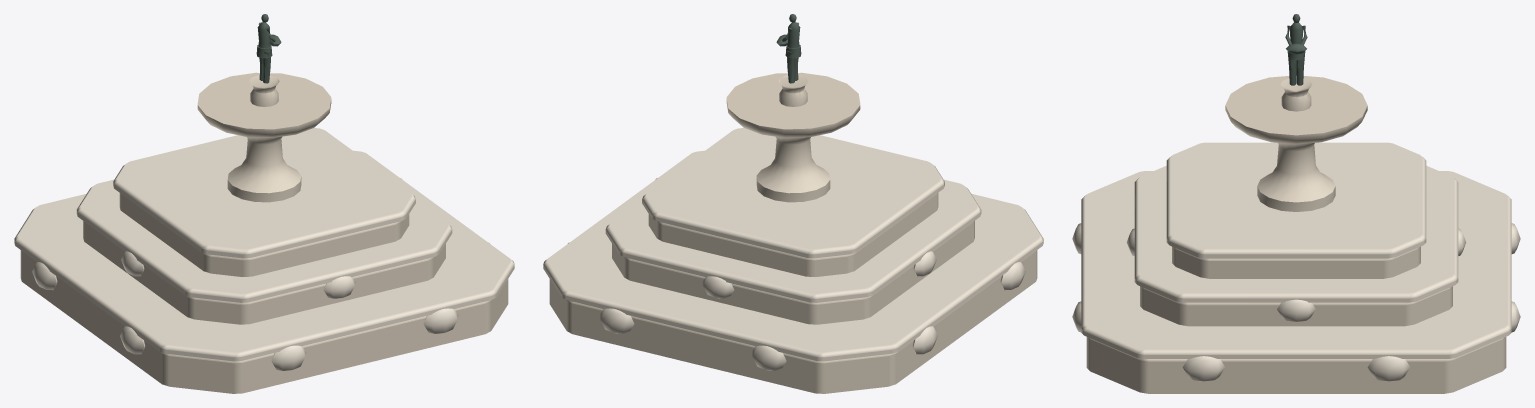
The model's file is nyc-pulitzer-fountain.glb.
The picture shows the model from 3 angles, left to right: view 1: azimuth 30°, elevation 25°; view 2: azimuth 150°, elevation 25°; view 3: azimuth 270°, elevation 25°; orthographic projection. The views are drawn at different scales.
Parts seen in each view (by area): view 1: Pulitzer Fountain; view 2: Pulitzer Fountain; view 3: Pulitzer Fountain.
Boxes of the visible parts, x1,y1,x2,y2 form: Pulitzer Fountain: [14, 14, 514, 393]; Pulitzer Fountain: [543, 14, 1043, 393]; Pulitzer Fountain: [1072, 14, 1520, 393].
Bounding box in the file's own units: 12.6 × 9.04 × 12.6.
